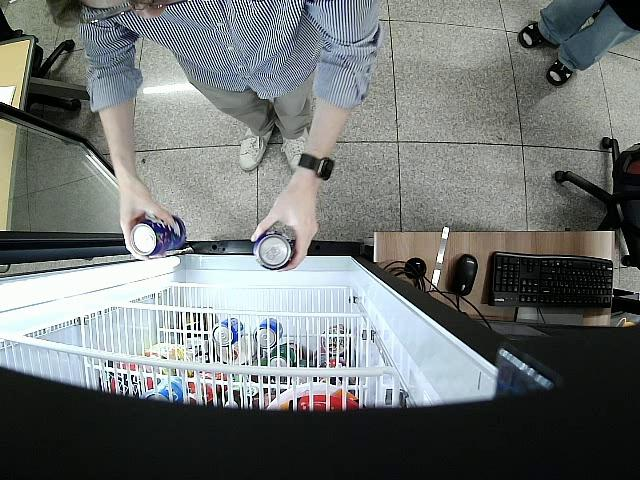00_hand: (251, 180, 319, 271), (117, 180, 177, 263)
14_welchsGrape: (129, 214, 188, 255), (252, 230, 292, 269)
